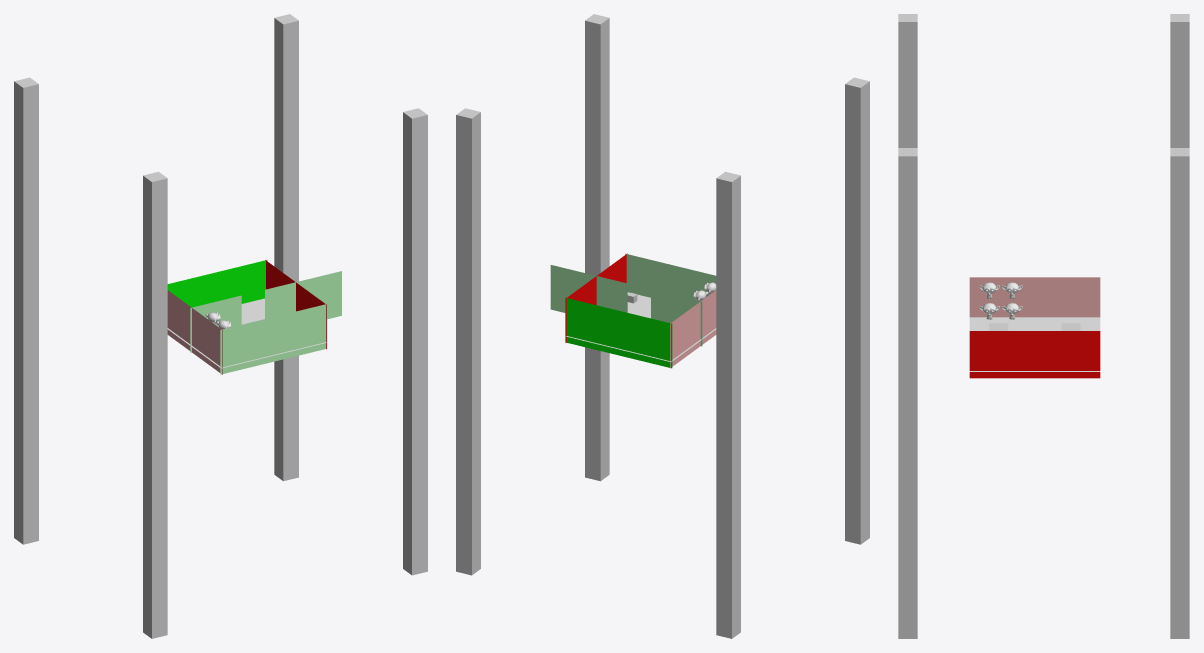
File: baking-probs.gltf
3 renders of one model, left to right at view 1: azimuth 30°, elevation 25°; view 2: azimuth 150°, elevation 25°; view 3: azimuth 270°, elevation 25°, orthographic. The views are drawn at different scales.
Parts seen in each view (by area): view 1: west-cube.004, west-cube.006, west-cube.005, west-cube.003, east-wall, west--wall, south-wall, north-int-wall, north-wall, south-int-wall, floor; view 2: west-cube.003, west-cube.005, west-cube.006, west-cube.004, west--wall, east-wall, north-int-wall, south-wall, south-int-wall, north-wall, floor; view 3: west-cube.003, west-cube.004, north-wall, south-wall, west-cube.005, west-cube.006, floor.
Boxes of the visible parts, x1=… form: west-cube.004: x1=403, y1=108, x2=427, y2=575; west-cube.006: x1=14, y1=77, x2=38, y2=544; west-cube.005: x1=143, y1=171, x2=167, y2=638; west-cube.003: x1=274, y1=14, x2=298, y2=481; east-wall: x1=220, y1=304, x2=327, y2=374; west--wall: x1=167, y1=260, x2=267, y2=307; south-wall: x1=167, y1=290, x2=222, y2=374; north-int-wall: x1=265, y1=271, x2=341, y2=319; north-wall: x1=265, y1=260, x2=326, y2=349; south-int-wall: x1=190, y1=295, x2=241, y2=352; floor: x1=167, y1=298, x2=327, y2=368; west-cube.003: x1=456, y1=108, x2=480, y2=575; west-cube.005: x1=845, y1=77, x2=869, y2=544; west-cube.006: x1=716, y1=171, x2=740, y2=638; west-cube.004: x1=585, y1=14, x2=609, y2=481; west--wall: x1=565, y1=297, x2=672, y2=368; east-wall: x1=625, y1=253, x2=716, y2=301; north-int-wall: x1=550, y1=265, x2=627, y2=312; south-wall: x1=670, y1=290, x2=716, y2=368; south-int-wall: x1=651, y1=289, x2=702, y2=346; north-wall: x1=565, y1=253, x2=627, y2=342; floor: x1=564, y1=292, x2=716, y2=361; west-cube.003: x1=1170, y1=148, x2=1189, y2=638; west-cube.004: x1=898, y1=148, x2=917, y2=638; north-wall: x1=969, y1=331, x2=1100, y2=378; south-wall: x1=969, y1=277, x2=1100, y2=317; west-cube.005: x1=898, y1=14, x2=917, y2=147; west-cube.006: x1=1170, y1=14, x2=1189, y2=147; floor: x1=969, y1=317, x2=1100, y2=371.
Size of the model in its own units: 74.24 by 117 by 64.24.
